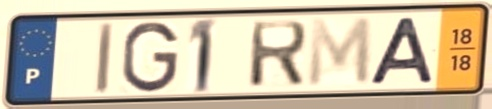1: (186, 16, 219, 95)
A: (367, 15, 439, 87)
G: (120, 19, 182, 95)
I: (93, 20, 117, 97)
M: (305, 15, 374, 90)
R: (246, 18, 311, 90)
